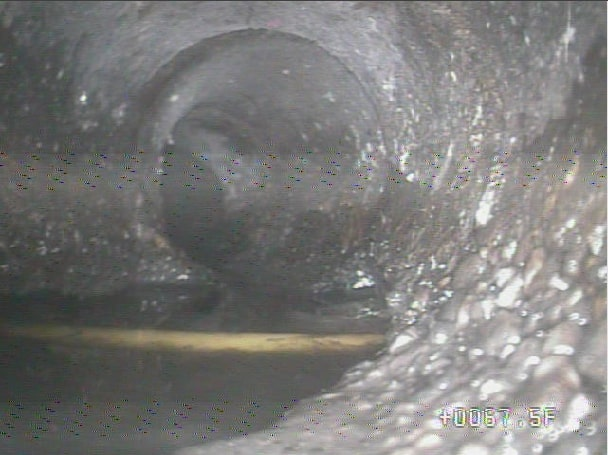cb: (2, 280, 408, 381)
